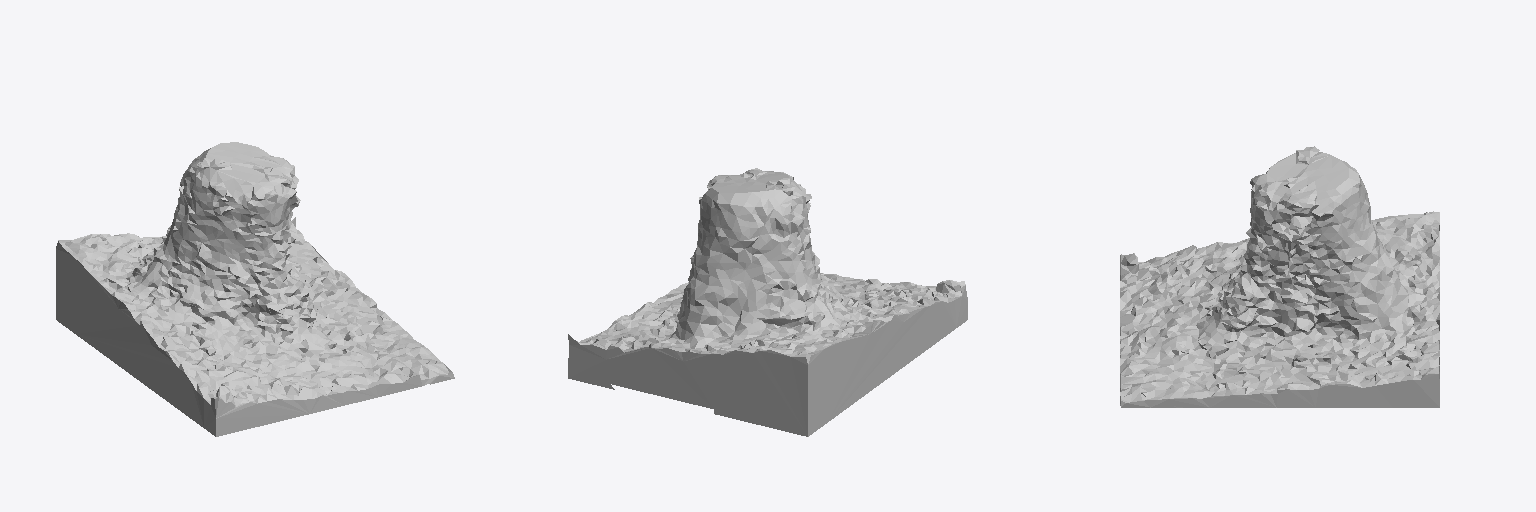
File: trunk.obj
3 views of the same model, side by side, from view 1: azimuth 30°, elevation 25°; view 2: azimuth 150°, elevation 25°; view 3: azimuth 270°, elevation 25° (orthographic).
Visible parts, largest first — view 1: default_1; view 2: default_1; view 3: default_1.
Boxes of the visible parts, box(x1,y1,x2,y2) form: default_1: box(56, 142, 454, 436); default_1: box(568, 168, 967, 436); default_1: box(1120, 146, 1439, 407).
Size of the model in its own units: 23.37 by 17.34 by 26.99.